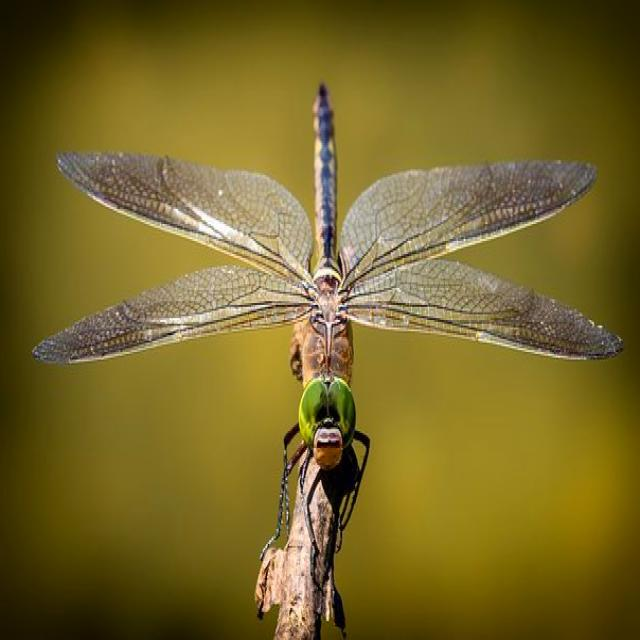dragonfly: (34, 83, 623, 587)
